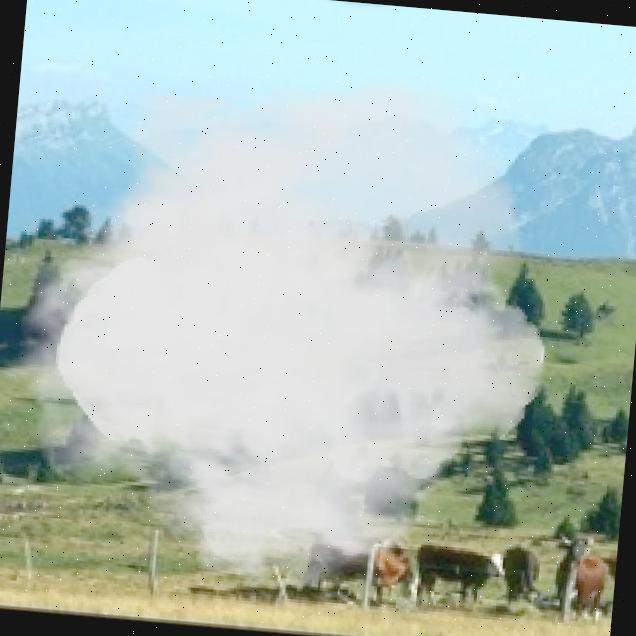smoke: (0, 37, 570, 613)
